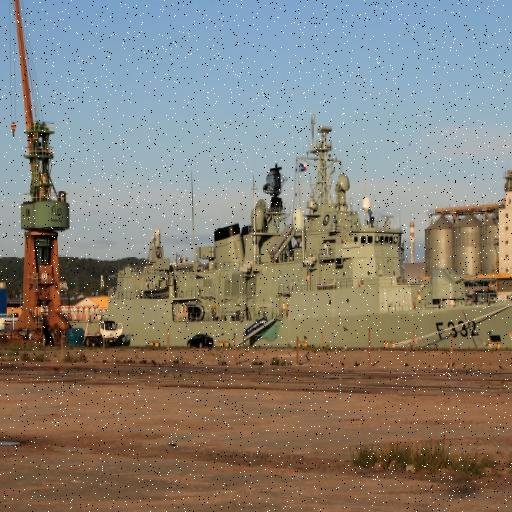Fragata: (90, 116, 512, 357)
